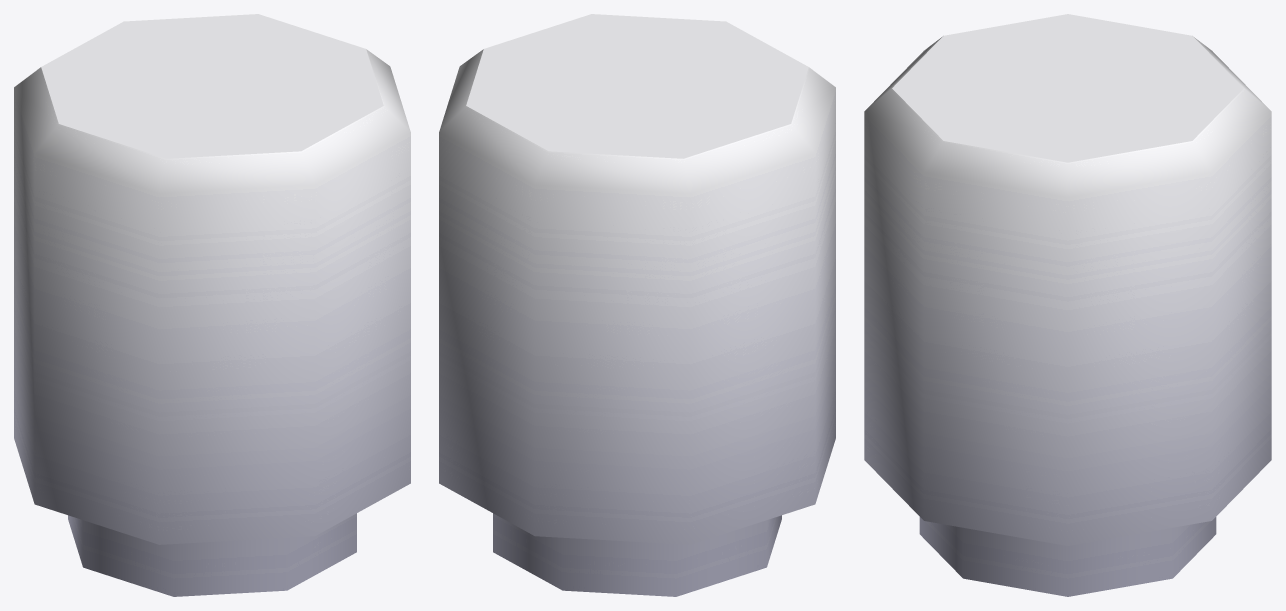
File: brick-kit--none-hq-brick-1x1-round.glb
3 views of the same model, side by side, from view 1: azimuth 30°, elevation 25°; view 2: azimuth 150°, elevation 25°; view 3: azimuth 270°, elevation 25° (orthographic).
Parts seen in each view (by area): view 1: none-hq-brick-1x1-round; view 2: none-hq-brick-1x1-round; view 3: none-hq-brick-1x1-round.
Part boxes in pixels (x1,y1,x2,y2): none-hq-brick-1x1-round: [14, 14, 410, 596]; none-hq-brick-1x1-round: [439, 14, 835, 596]; none-hq-brick-1x1-round: [864, 14, 1271, 596].
Size of the model in its own units: 0.0795 by 0.096 by 0.0795.
1 material, 1 textured.
